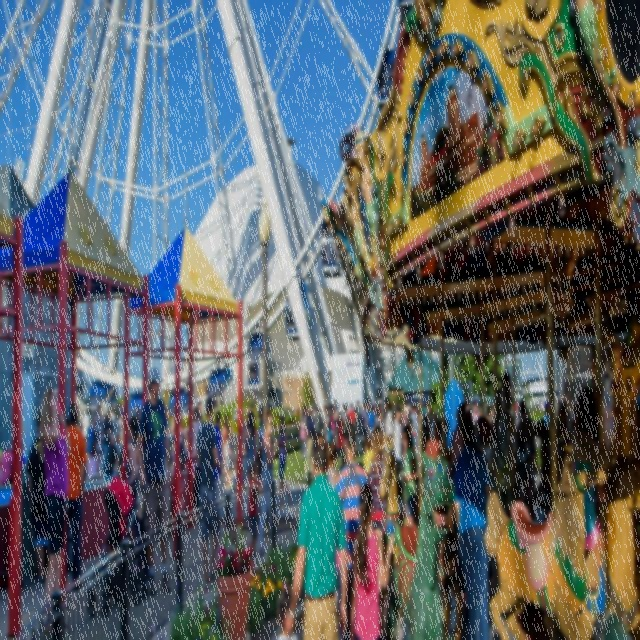pessoa: (280, 429, 351, 639), (497, 363, 576, 517), (36, 382, 72, 639), (135, 365, 174, 598), (453, 407, 491, 639), (348, 477, 398, 639), (334, 421, 368, 639), (84, 375, 140, 484), (196, 393, 222, 592), (307, 390, 385, 451), (574, 385, 601, 554), (65, 400, 88, 590), (26, 410, 50, 589), (257, 405, 280, 560), (368, 425, 386, 606), (164, 396, 204, 472), (125, 413, 142, 572), (596, 343, 616, 477), (401, 393, 442, 442), (247, 460, 265, 567), (464, 394, 496, 450), (402, 423, 418, 527), (276, 576, 298, 639), (276, 413, 290, 509), (232, 414, 246, 495), (244, 410, 256, 498), (302, 404, 315, 480), (220, 412, 232, 488), (390, 403, 403, 465), (444, 405, 459, 453), (0, 439, 13, 486), (225, 424, 234, 491), (299, 404, 307, 459), (384, 395, 393, 442), (257, 403, 264, 450), (21, 439, 27, 472), (389, 397, 396, 421), (254, 419, 258, 456), (294, 403, 300, 418), (250, 399, 254, 409)
